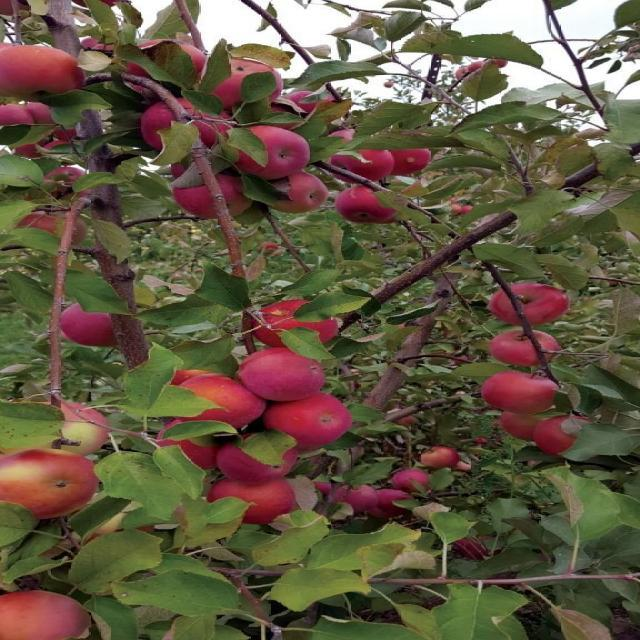Red Apple: (1, 449, 102, 516), (174, 375, 270, 425), (1, 589, 87, 640), (1, 46, 88, 96), (209, 476, 304, 521), (149, 98, 233, 148), (268, 395, 354, 441), (254, 303, 341, 348), (232, 124, 313, 170), (481, 368, 562, 412), (245, 350, 327, 393), (181, 174, 258, 219), (37, 403, 105, 453), (223, 436, 300, 478), (213, 60, 285, 103), (161, 423, 233, 466), (499, 284, 571, 324), (62, 305, 128, 346), (264, 172, 328, 212), (140, 39, 210, 72), (342, 187, 403, 224), (494, 329, 558, 364), (338, 148, 399, 181), (502, 409, 561, 442), (537, 418, 587, 453), (1, 105, 38, 134), (393, 146, 432, 172), (293, 93, 334, 116), (341, 486, 379, 509), (423, 448, 460, 469), (378, 490, 411, 511), (400, 471, 432, 492), (53, 167, 83, 184), (28, 215, 55, 230), (334, 130, 359, 145), (470, 64, 486, 73), (496, 60, 508, 67), (465, 207, 473, 212)
